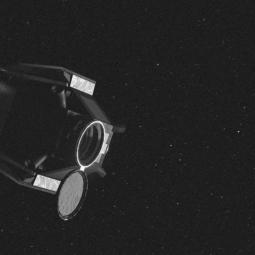cheops: (0, 67, 123, 210)
